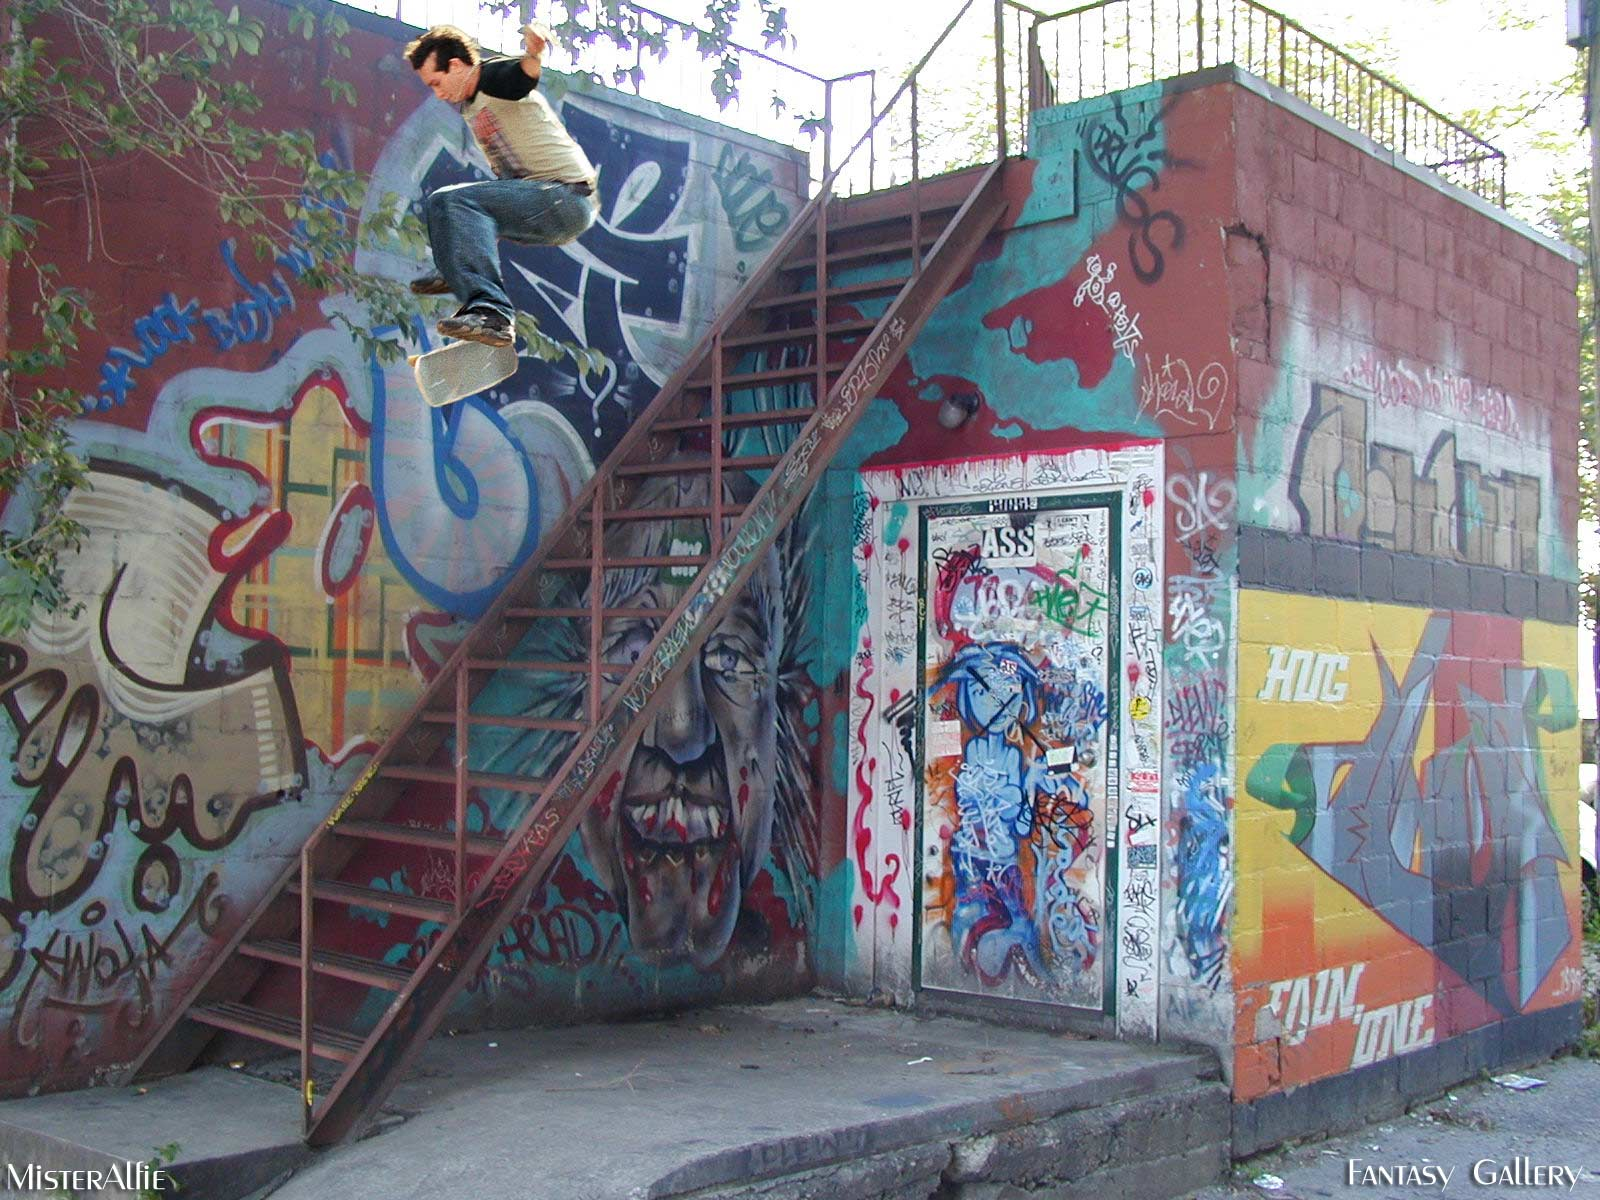graphite: (1250, 603, 1581, 1059), (1, 456, 252, 892), (581, 487, 800, 957), (265, 379, 553, 730), (926, 499, 1121, 1015), (1277, 379, 1577, 576), (522, 122, 687, 410), (853, 500, 927, 979), (1, 908, 184, 1007), (1089, 115, 1196, 284), (1065, 261, 1167, 398), (488, 910, 612, 995), (716, 121, 791, 245), (1126, 342, 1233, 429)
